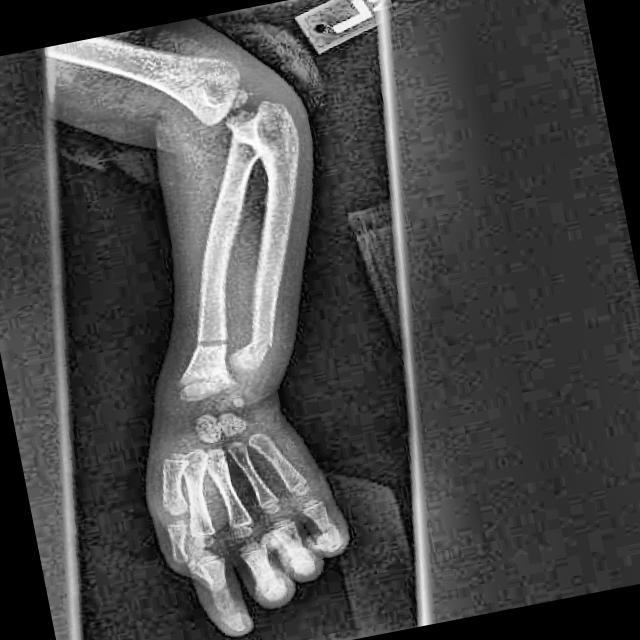forearm fracture: (172, 315, 245, 376), (225, 326, 293, 379)
